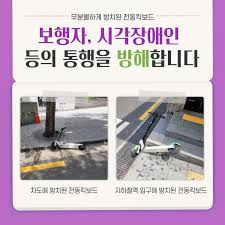fallin_kick: (131, 112, 182, 153), (51, 127, 85, 149)
